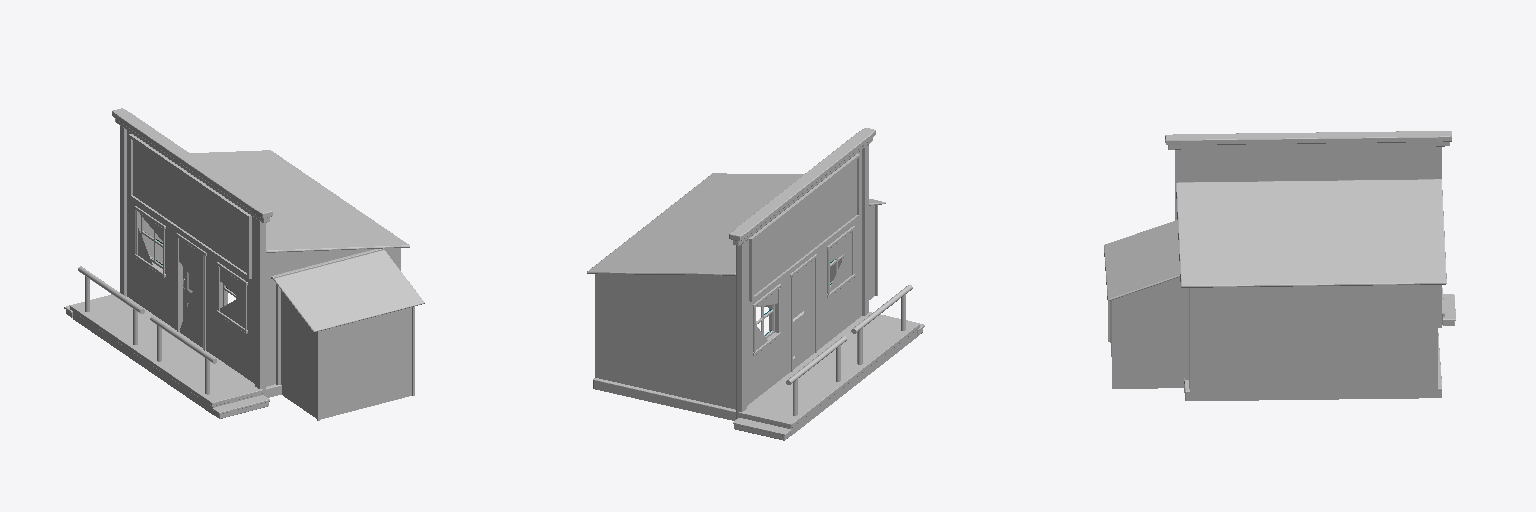
The picture shows the model from 3 angles: view 1: azimuth 30°, elevation 25°; view 2: azimuth 150°, elevation 25°; view 3: azimuth 270°, elevation 25°; orthographic projection.
Visible parts, largest first — view 1: Cube.017_Cube.018, Cube_Cube.001, Cube.002_Cube.017, Cube.016, Cube.018_Cube.040, Cube.005_Cube.028, Cube.001_Cube.002, Cube.006_Cube.029, Cube.009_Cube.010, Cube.008_Cube.031, Cube.004_Cube.027, Cylinder.002_Cylinder.005 (+1 smaller); view 2: Cube.001_Cube.002, Cube.002_Cube.017, Cube_Cube.001, Cube.016, Cube.005_Cube.028, Cube.006_Cube.029, Cube.008_Cube.031, Cube.003_Cube.025, Cube.009_Cube.010, Cube.004_Cube.027, Cylinder.002_Cylinder.005, Cube.017_Cube.018; view 3: Cube.001_Cube.002, Cube.002_Cube.017, Cube_Cube.001, Cube.017_Cube.018, Cube.018_Cube.040, Cube.006_Cube.029, Cube.007_Cube.030.
Part boxes in pixels (bbox=[...]): Cube.017_Cube.018: bbox=[281, 290, 411, 419]; Cube_Cube.001: bbox=[127, 130, 257, 383]; Cube.002_Cube.017: bbox=[190, 150, 409, 252]; Cube.016: bbox=[129, 134, 251, 278]; Cube.018_Cube.040: bbox=[274, 250, 424, 331]; Cube.005_Cube.028: bbox=[70, 294, 262, 406]; Cube.001_Cube.002: bbox=[146, 222, 400, 386]; Cube.006_Cube.029: bbox=[112, 108, 272, 218]; Cube.009_Cube.010: bbox=[255, 218, 265, 395]; Cube.008_Cube.031: bbox=[120, 126, 126, 296]; Cube.004_Cube.027: bbox=[73, 312, 261, 414]; Cylinder.002_Cylinder.005: bbox=[78, 266, 216, 363]; Cube.001_Cube.002: bbox=[595, 258, 841, 409]; Cube.002_Cube.017: bbox=[587, 173, 803, 275]; Cube_Cube.001: bbox=[747, 150, 861, 405]; Cube.016: bbox=[749, 153, 860, 301]; Cube.005_Cube.028: bbox=[739, 312, 919, 427]; Cube.006_Cube.029: bbox=[729, 128, 875, 240]; Cube.008_Cube.031: bbox=[736, 240, 746, 418]; Cube.003_Cube.025: bbox=[593, 378, 735, 420]; Cube.009_Cube.010: bbox=[862, 145, 868, 315]; Cube.004_Cube.027: bbox=[740, 329, 917, 435]; Cylinder.002_Cylinder.005: bbox=[786, 285, 912, 384]; Cube.017_Cube.018: bbox=[869, 205, 874, 299]; Cube.001_Cube.002: bbox=[1189, 285, 1437, 400]; Cube.002_Cube.017: bbox=[1176, 179, 1446, 287]; Cube_Cube.001: bbox=[1185, 147, 1432, 181]; Cube.017_Cube.018: bbox=[1110, 277, 1184, 388]; Cube.018_Cube.040: bbox=[1104, 220, 1179, 300]; Cube.006_Cube.029: bbox=[1165, 131, 1451, 144]; Cube.007_Cube.030: bbox=[1168, 142, 1449, 149].
Size of the model in its own units: 6.83 by 6 by 9.92.
Materials: 5 (1 with a texture image).